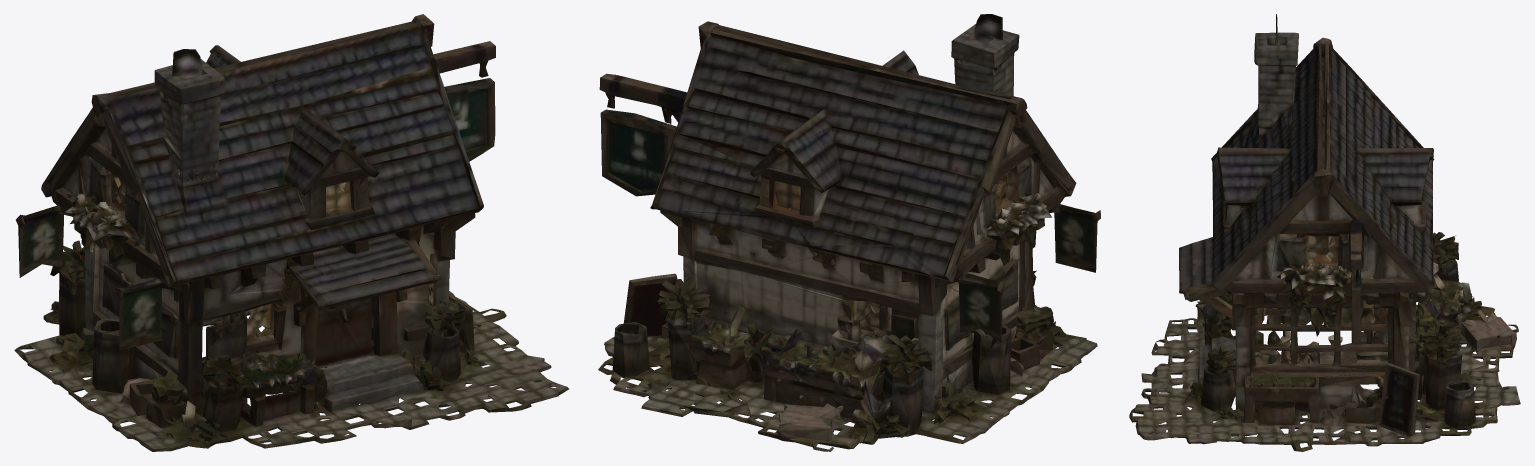
Rendered from war_apothecary_01.glb.
3 views of the same model, side by side, from view 1: azimuth 30°, elevation 25°; view 2: azimuth 150°, elevation 25°; view 3: azimuth 270°, elevation 25° (orthographic). The views are drawn at different scales.
Visible parts, largest first — view 1: geometry_0; view 2: geometry_0; view 3: geometry_0.
Boxes of the visible parts, left/top/right/bottom form: geometry_0: left=14, top=14, right=568, bottom=451; geometry_0: left=598, top=14, right=1100, bottom=451; geometry_0: left=1129, top=14, right=1520, bottom=451.
Size of the model in its own units: 0.9976 by 0.7744 by 0.9092.
1 material, 1 textured.
